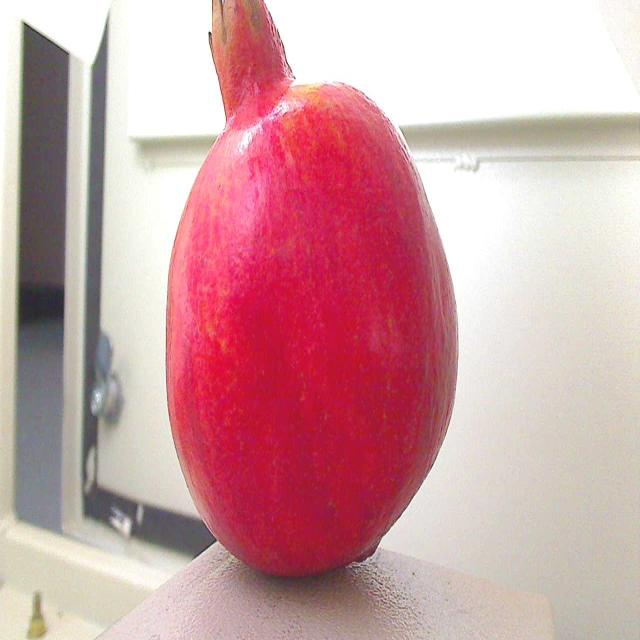pomegranate: (148, 0, 478, 600)
